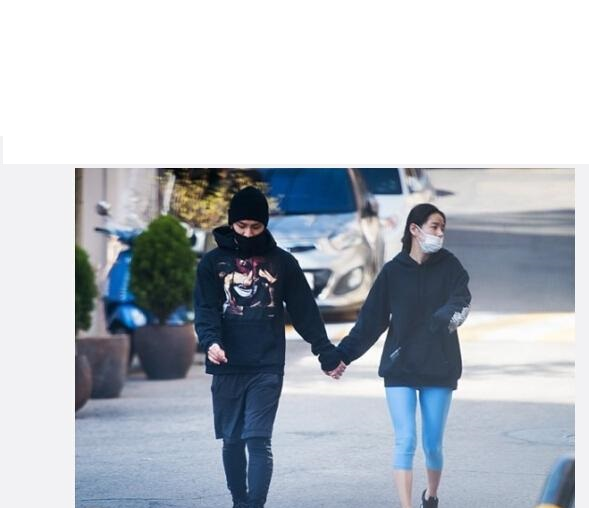face_mask: (233, 215, 264, 250), (420, 214, 445, 252)
